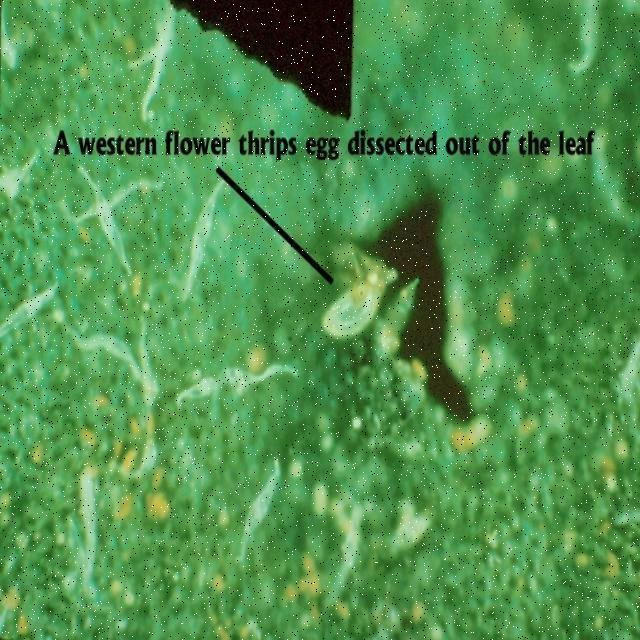Thrips: (294, 212, 439, 394)
